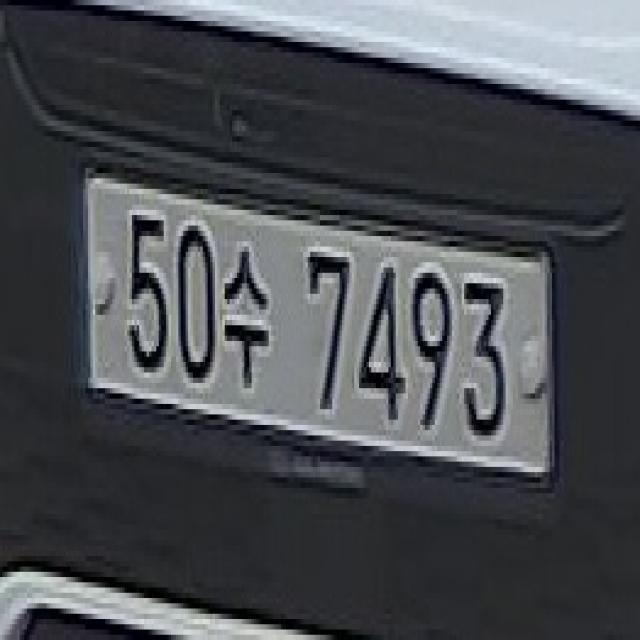0: (172, 210, 220, 392)
3: (457, 270, 509, 447)
4: (357, 248, 407, 437)
5: (122, 207, 170, 387)
7: (298, 228, 354, 432)
9: (410, 260, 454, 440)
license_plate: (70, 129, 576, 528)
su: (222, 232, 272, 408)
